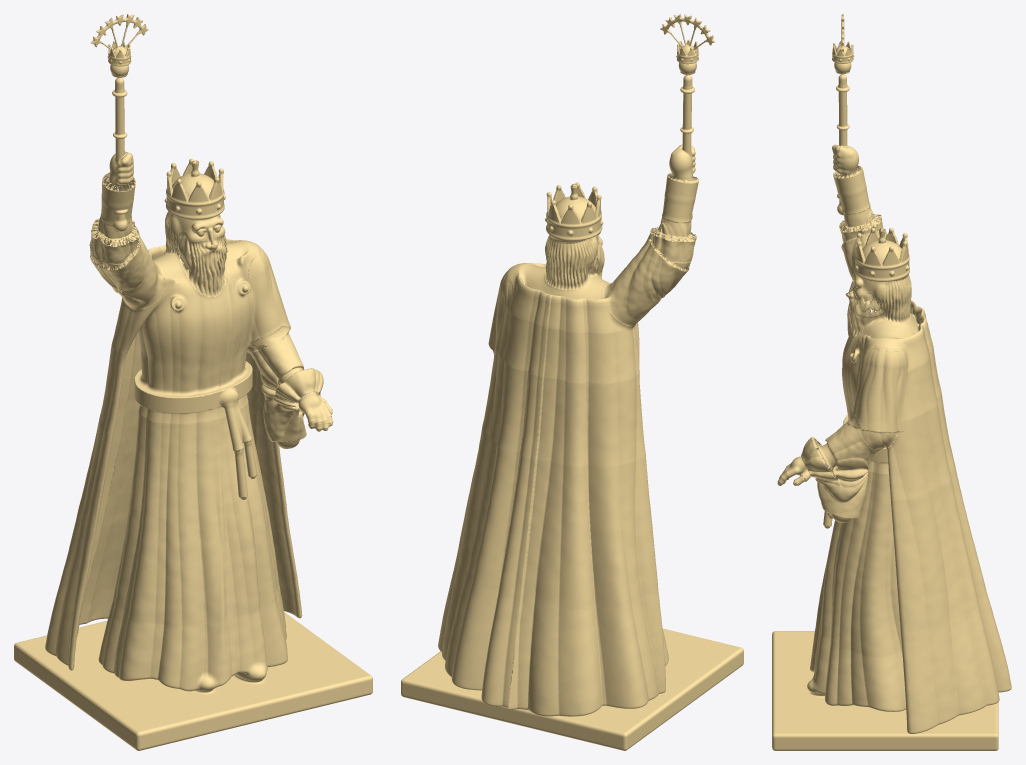
File: statue_lod0.glb
3 views of the same model, side by side, from view 1: azimuth 30°, elevation 25°; view 2: azimuth 150°, elevation 25°; view 3: azimuth 270°, elevation 25° (orthographic). The views are drawn at different scales.
Parts seen in each view (by area): view 1: statue; view 2: statue; view 3: statue.
Boxes of the visible parts, left/top/right/bottom form: statue: left=14, top=14, right=372, bottom=750; statue: left=401, top=14, right=743, bottom=750; statue: left=772, top=14, right=1011, bottom=750.
Size of the model in its own units: 4.93 by 13.33 by 4.53.
